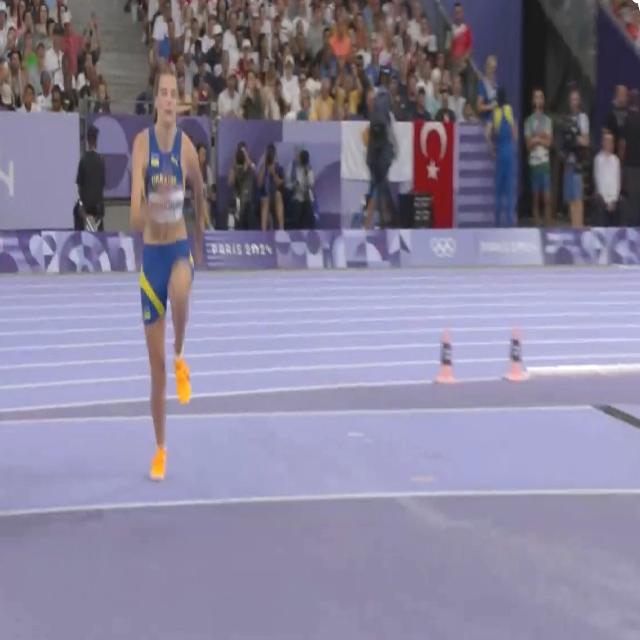run: (127, 65, 207, 478)
